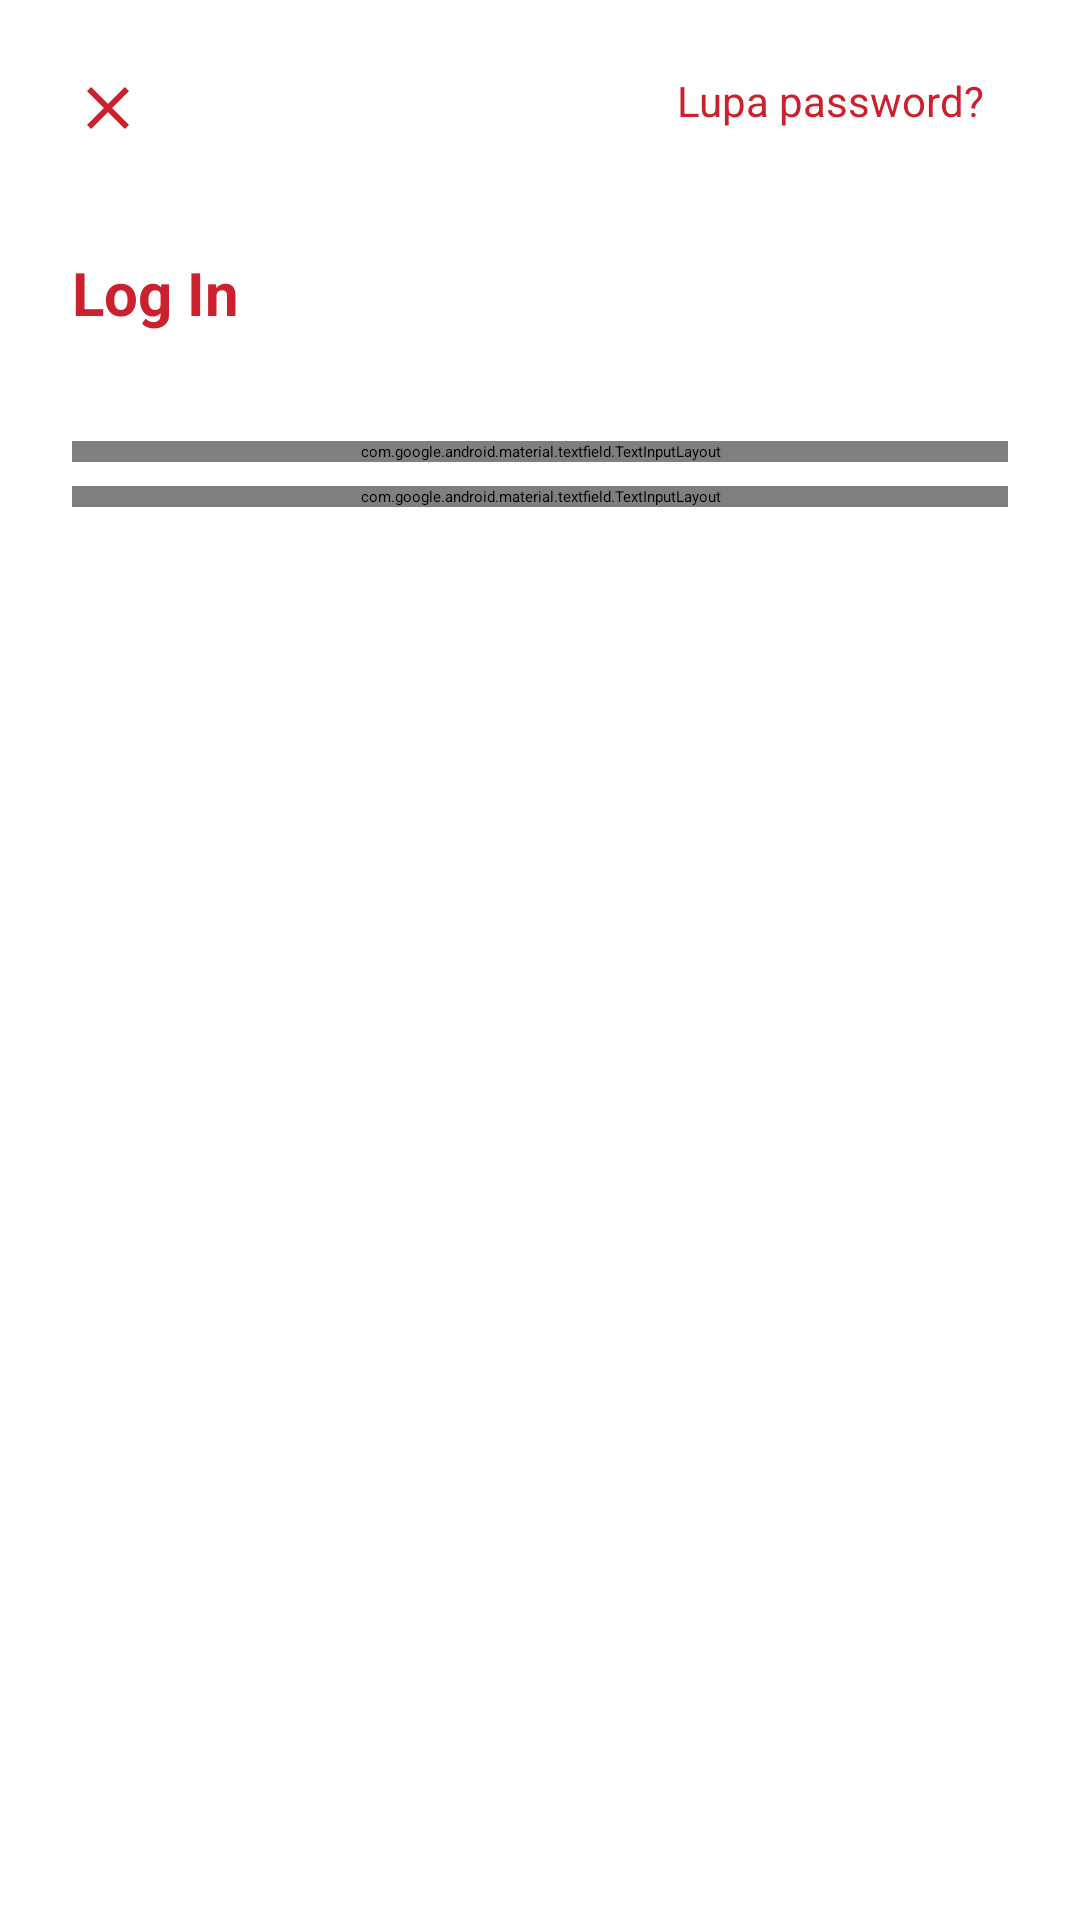

Icons on this 1080x1920 Android screen, each with its box as (x1, y1, x2, y2):
close: (87, 87, 129, 129)
